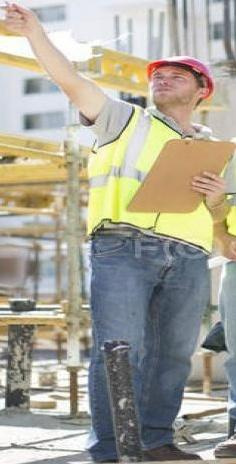boots: (141, 443, 201, 461), (1, 1, 1, 1)
hard-hat: (146, 56, 214, 98)
vest: (73, 97, 209, 244)
